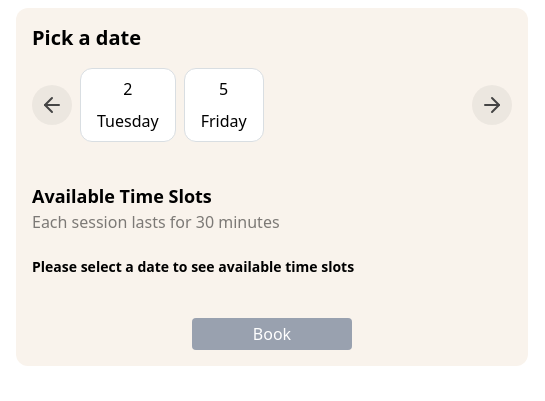
Test: TimeSlots Component › renders dates and slots after successful fetch
The image size is (545, 401).
// Select the first date
Click the text "2" at (128, 89), box [123,78,132,100]
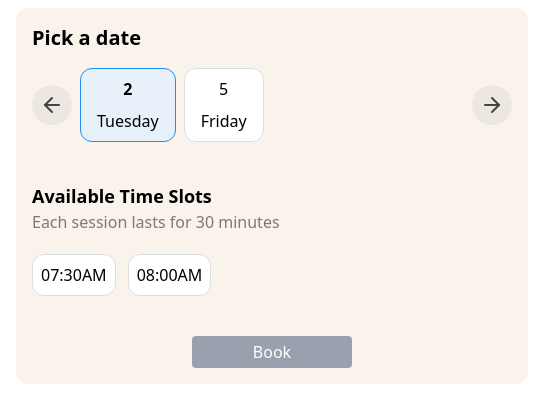
Now the button "07:30AM" is shown, box [32,254,116,296]
Now the button "08:00AM" is shown, box [128,254,211,296]
